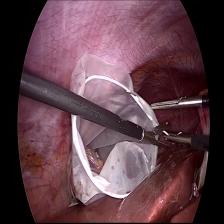Grasper: (151, 92, 203, 112), (145, 118, 170, 150), (163, 128, 191, 148)
Specimen Bag: (68, 63, 160, 210)
